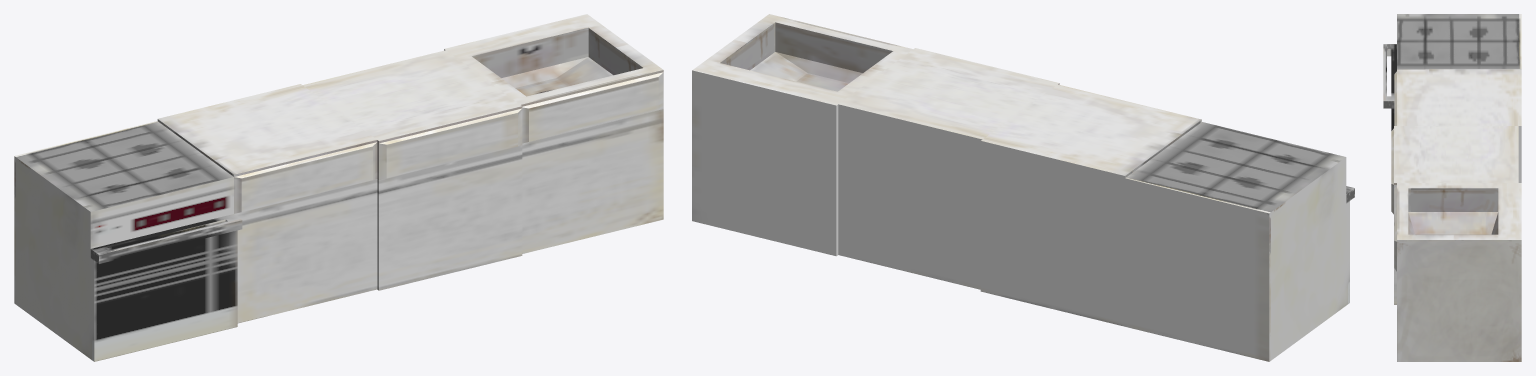
Rendered from куханный гарнитур.fbx.
3 views of the same model, side by side, from view 1: azimuth 30°, elevation 25°; view 2: azimuth 150°, elevation 25°; view 3: azimuth 270°, elevation 25° (orthographic). The views are drawn at different scales.
Visible parts, largest first — view 1: Cube; view 2: Cube; view 3: Cube.
Part boxes in pixels (<box>): Cube: <box>14,14,663,361</box>; Cube: <box>692,14,1354,361</box>; Cube: <box>1383,14,1521,361</box>.
Bounding box in the file's own units: 913 × 228 × 234.
Materials: 1 (1 with a texture image).
